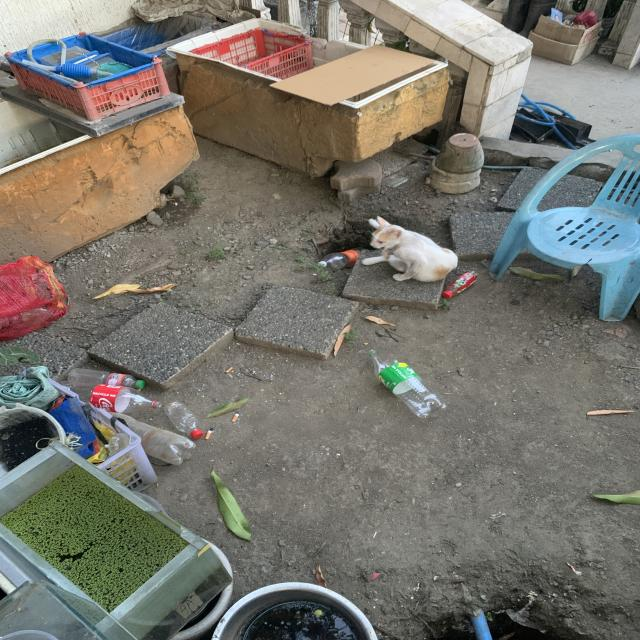Bottle: (367, 350, 446, 418)
